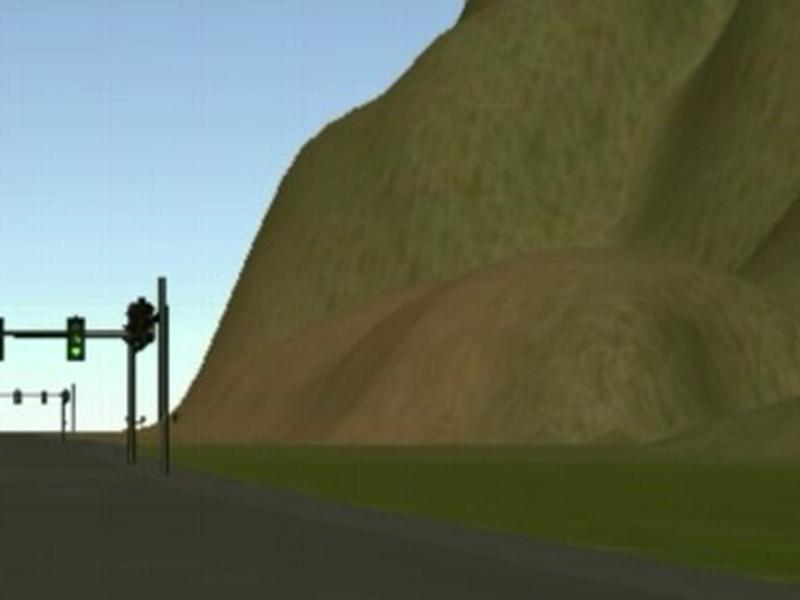Green: (68, 316, 86, 360)
